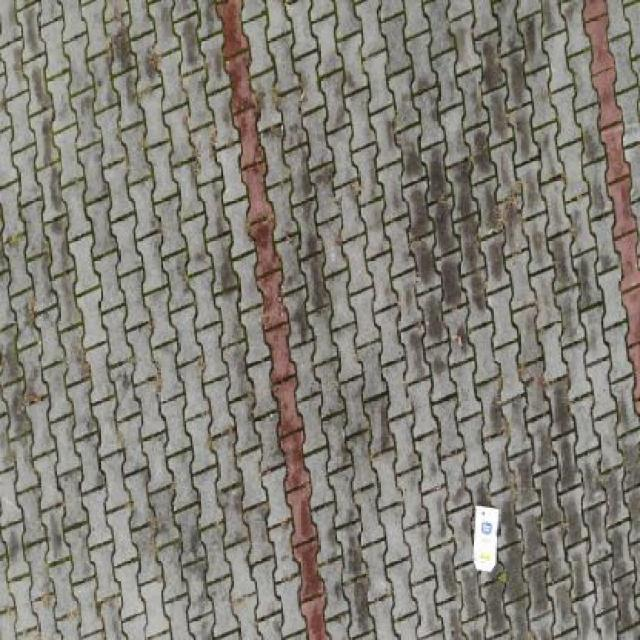Garbage: (472, 504, 500, 571)
